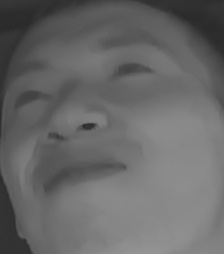eye: (104, 57, 158, 89), (7, 86, 54, 114)
mouth: (37, 151, 131, 197)
